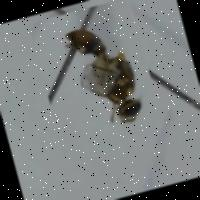Oriental-fruit-fly: (27, 0, 162, 152)
